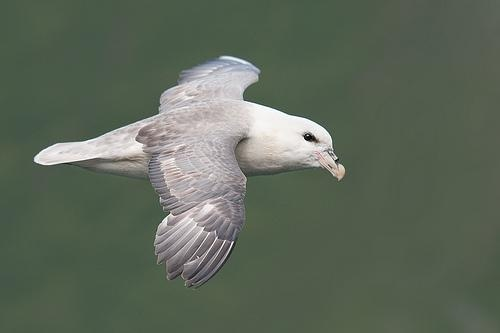bird: (22, 56, 344, 289)
